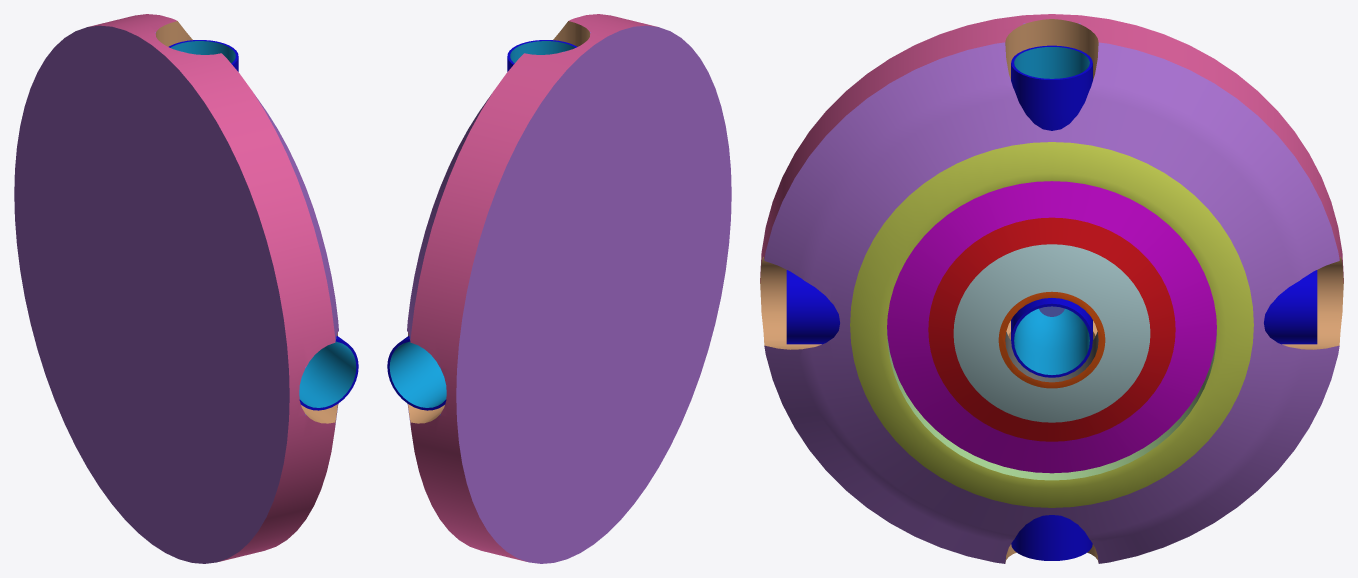
The picture shows the model from 3 angles, left to right: view 1: azimuth 30°, elevation 25°; view 2: azimuth 150°, elevation 25°; view 3: azimuth 270°, elevation 25°; orthographic projection. The views are drawn at different scales.
Parts seen in each view (by area): view 1: block, nozzle; view 2: block, nozzle; view 3: block, nozzle.
Part boxes in pixels (bbox=[...]): block: bbox=[14, 14, 338, 563]; nozzle: bbox=[169, 40, 358, 410]; block: bbox=[407, 14, 731, 563]; nozzle: bbox=[387, 40, 576, 410]; block: bbox=[760, 14, 1343, 563]; nozzle: bbox=[786, 45, 1317, 560].
Bounding box in the file's own units: 0.0505 × 0.2 × 0.2.
